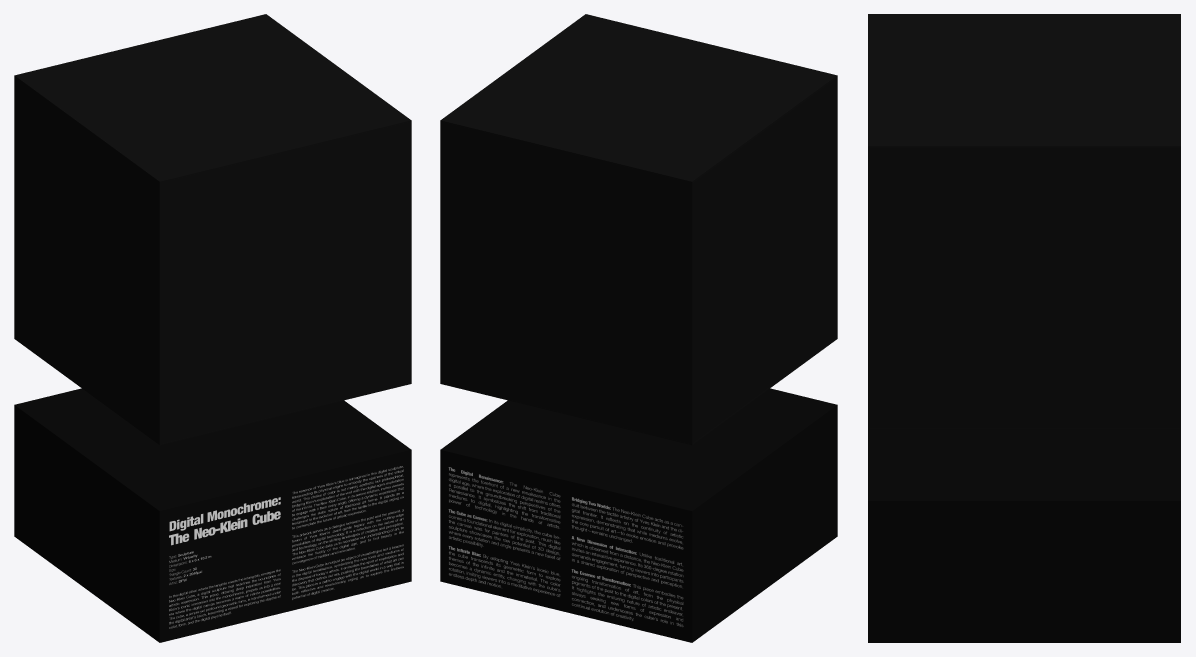
Rendered from NEOKLEIN-blck-v119.glb.
The picture shows the model from 3 angles, left to right: view 1: azimuth 30°, elevation 25°; view 2: azimuth 150°, elevation 25°; view 3: azimuth 270°, elevation 25°; orthographic projection. The views are drawn at different scales.
Parts seen in each view (by area): view 1: yves klein blue monochrome-151d9c-; view 2: yves klein blue monochrome-151d9c-; view 3: yves klein blue monochrome-151d9c-.
Boxes of the visible parts, x1=… form: yves klein blue monochrome-151d9c-: x1=14, y1=14, x2=411, y2=642; yves klein blue monochrome-151d9c-: x1=440, y1=14, x2=837, y2=642; yves klein blue monochrome-151d9c-: x1=868, y1=14, x2=1180, y2=642.
Size of the model in its own units: 5.82 by 10.18 by 5.86.
Materials: 3 (3 with a texture image).
